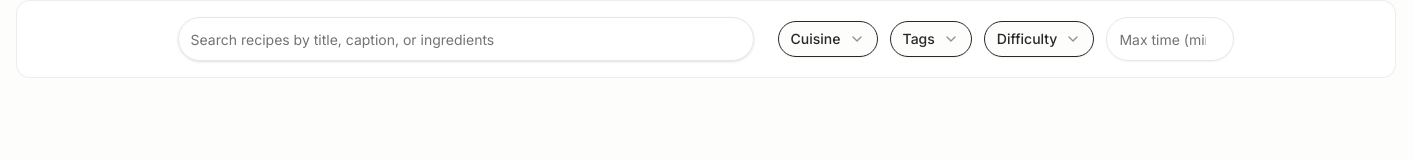
Test: FilterBar › clear filters › should clear search input after clicking clear button
The image size is (1413, 160).
Type "pasta" into the search field with test id "search-input" at x=466, y=39, box left=178, top=17, right=754, bottom=61
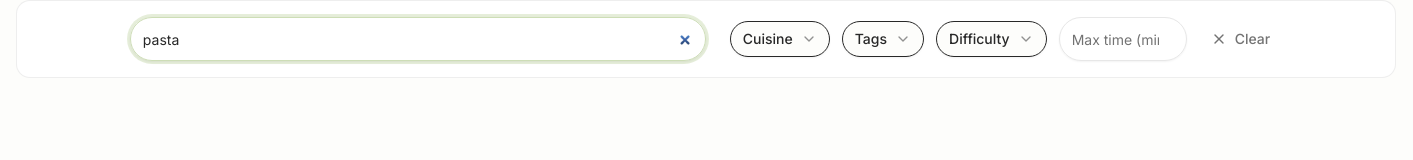
Click the button with test id "clear-filters-button" at x=1240, y=39, box left=1199, top=21, right=1282, bottom=57
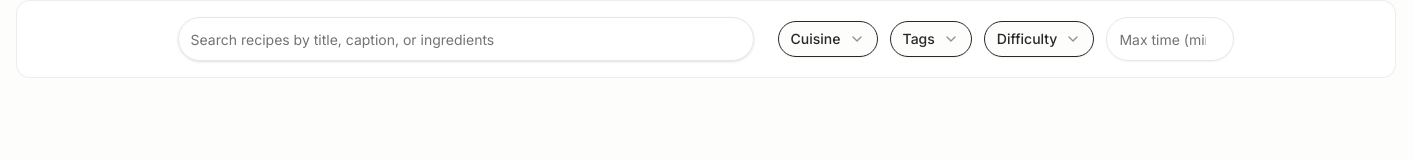
expect the search field with test id "search-input" is empty: met, box left=178, top=17, right=754, bottom=61
